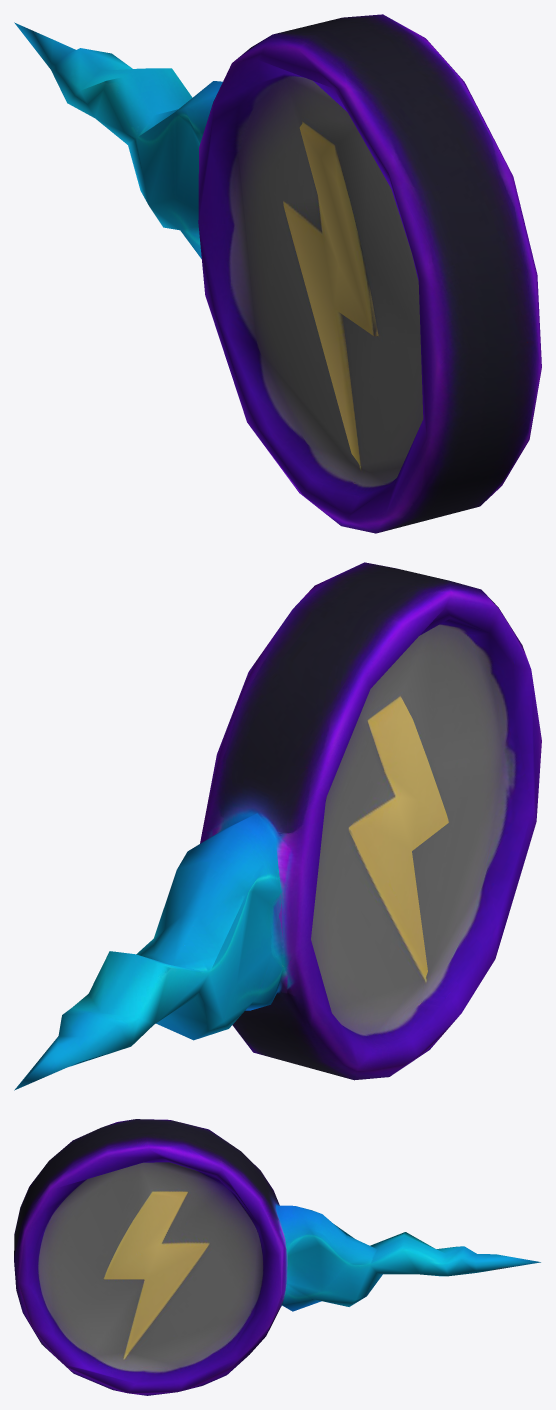
File: Proyectil_rayo.fbx
3 views of the same model, one above another, from view 1: azimuth 30°, elevation 25°; view 2: azimuth 150°, elevation 25°; view 3: azimuth 270°, elevation 25° (orthographic). The views are drawn at different scales.
Visible parts, largest first — view 1: tripo_node_0e2a1573; view 2: tripo_node_0e2a1573; view 3: tripo_node_0e2a1573.
Boxes of the visible parts, x1,y1,x2,y2 form: tripo_node_0e2a1573: (14,14,541,533); tripo_node_0e2a1573: (14,562,541,1090); tripo_node_0e2a1573: (14,1119,540,1395).
Size of the model in its own units: 13.63 by 53.56 by 99.97.
Materials: 1 (1 with a texture image).
